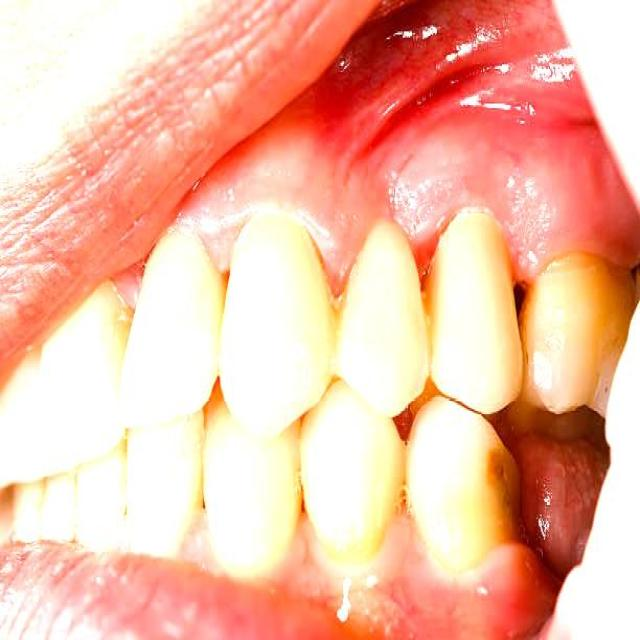caries: (471, 426, 537, 530)
